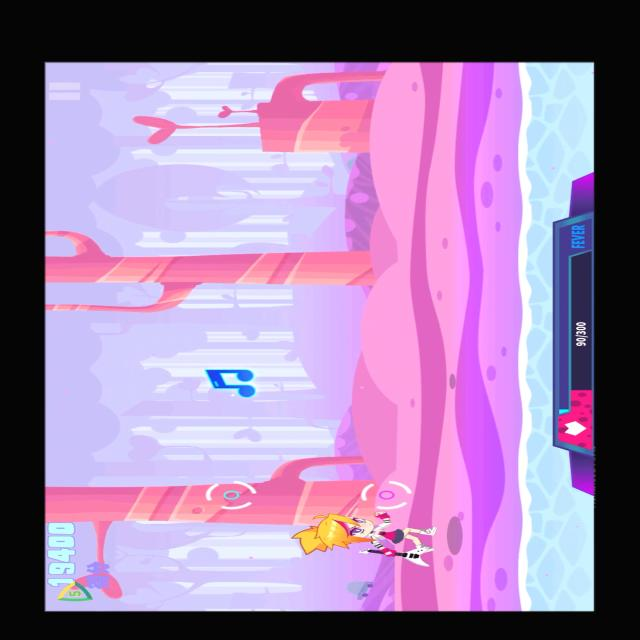Music note: (200, 366, 264, 400)
